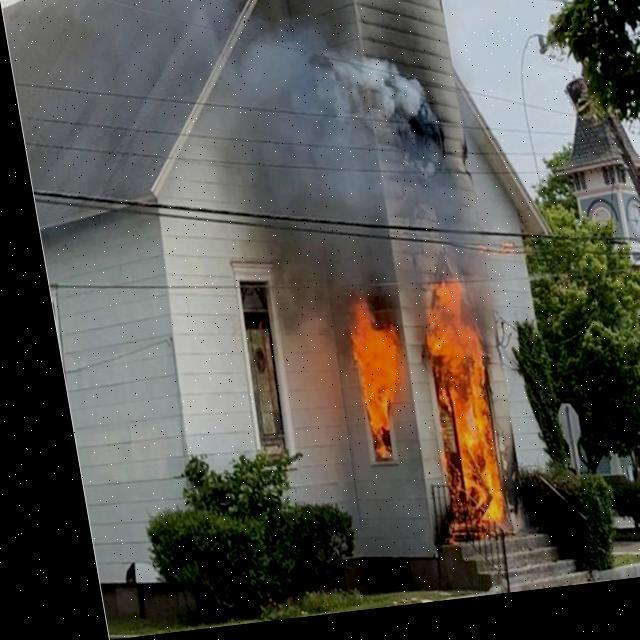Fire: (402, 272, 496, 552), (330, 300, 402, 476)
